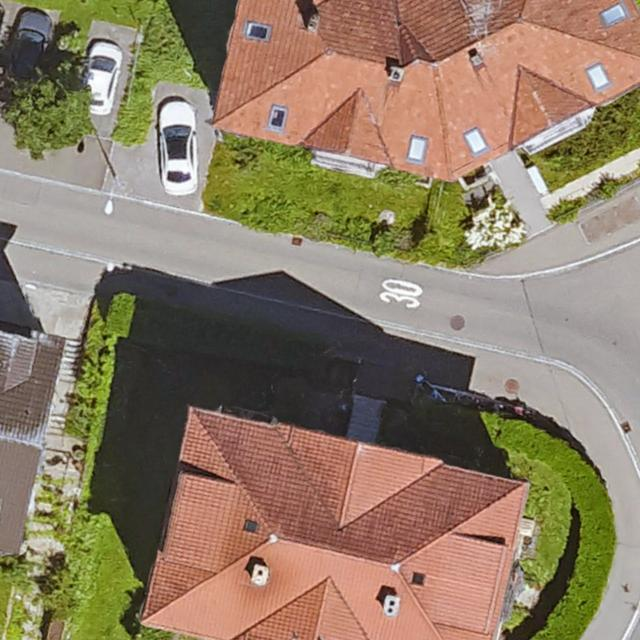tree: (6, 75, 90, 156)
